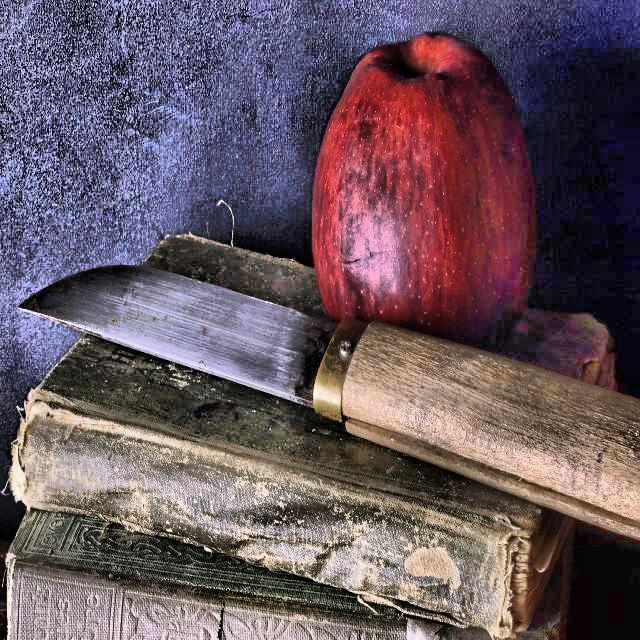knife: (14, 253, 640, 538)
